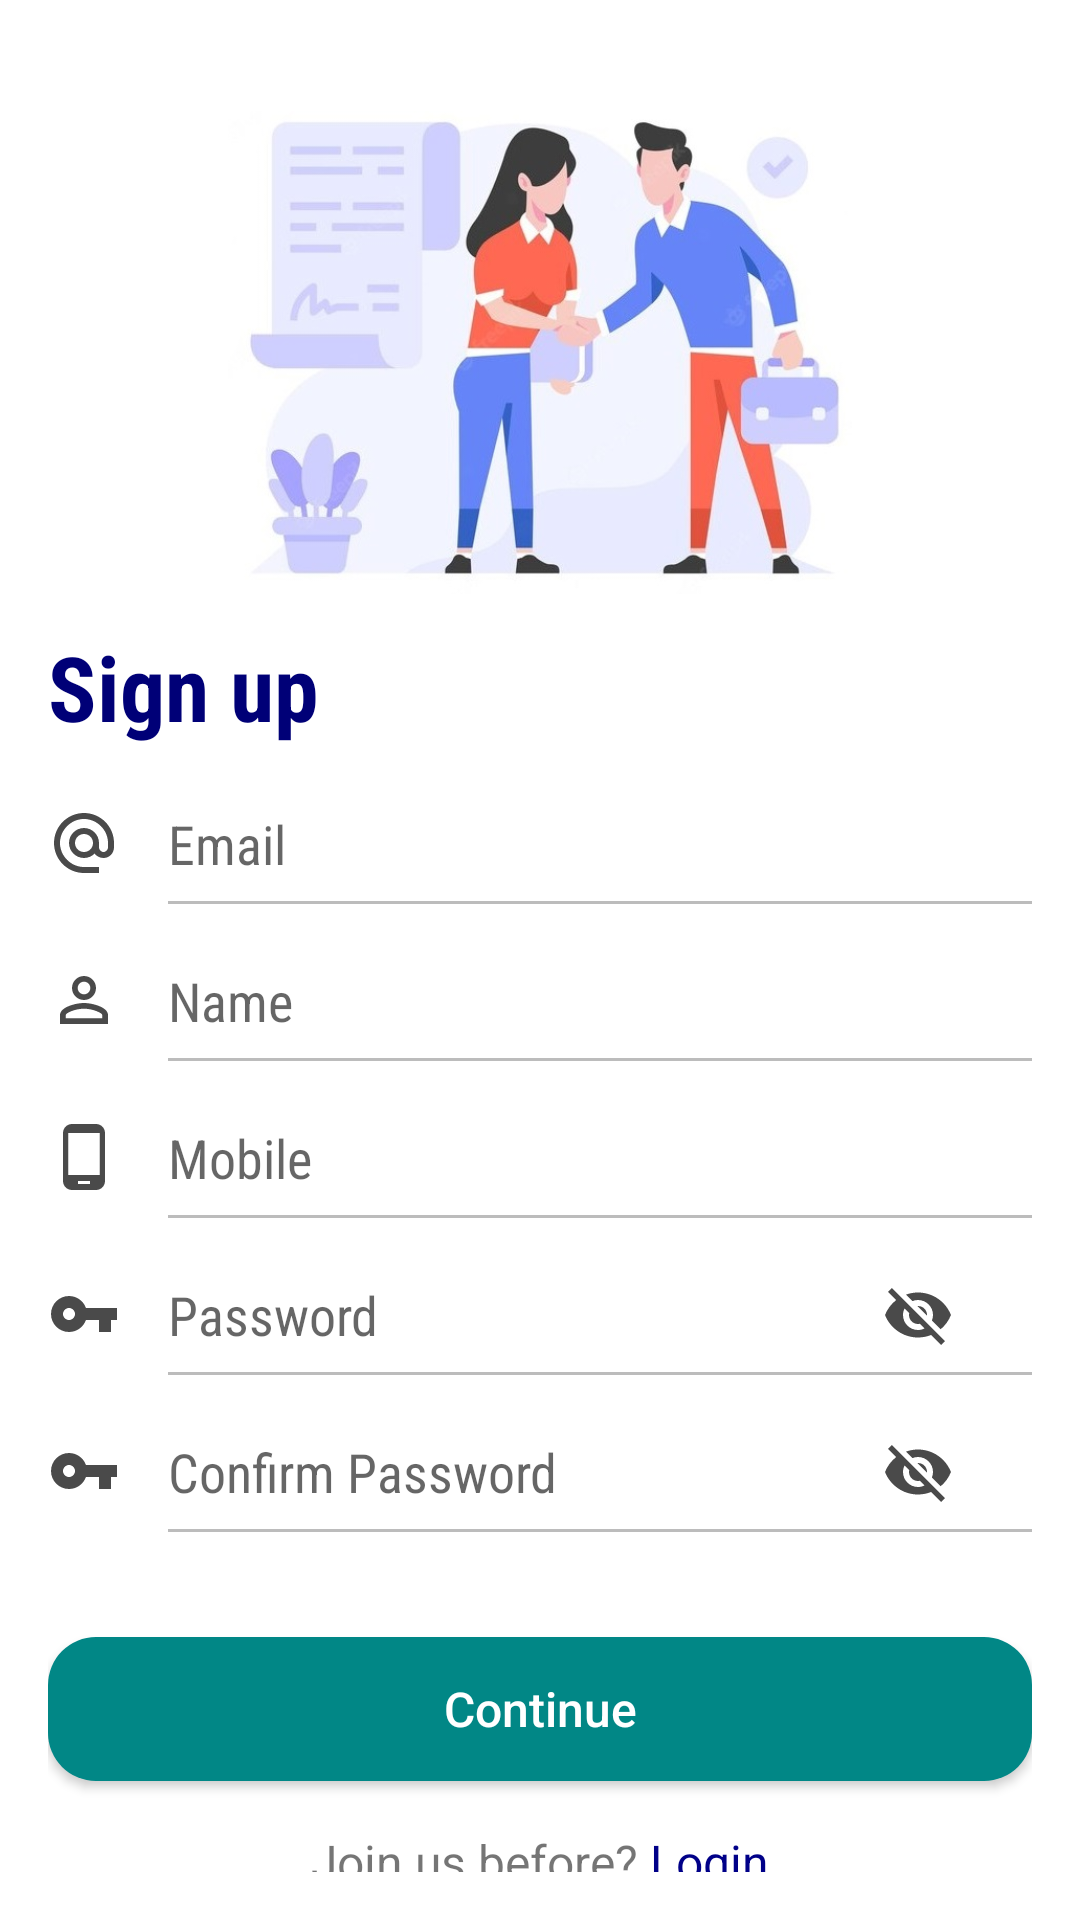

Named icons in this screenshot (1080x1920) and their centers, point (x, y):
visibility off: point (918, 1316), point (918, 1473)
